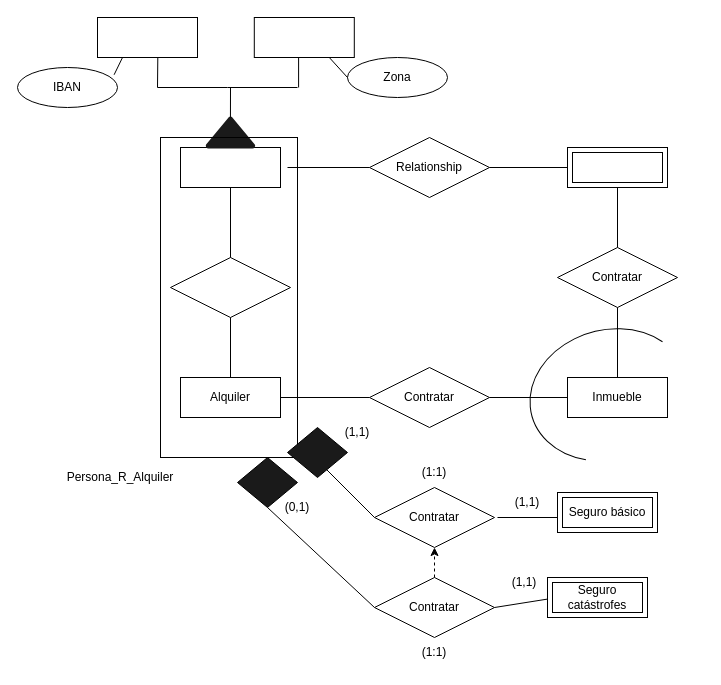
The diagram is 721 pixels wide and 685 high, and some of its shapes have lost their labels. Here are the shapes that lost their labels. From the top down, the centre of each, then its label:
At (x=147, y=37): "Propietario".
At (x=303, y=37): "Cliente".
At (x=230, y=167): "Persona".
At (x=617, y=167): "Compra".
At (x=230, y=287): "Realizar".
